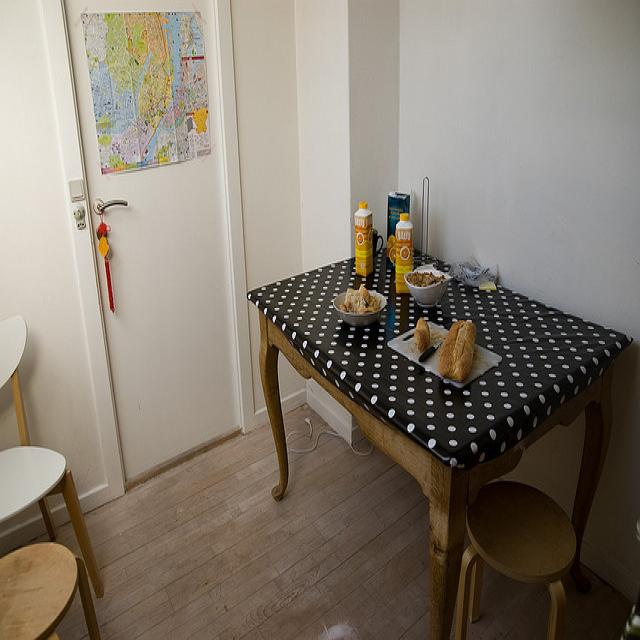chair: (0, 314, 108, 598), (452, 481, 577, 640), (0, 542, 104, 640)
dining table: (247, 241, 633, 640)
